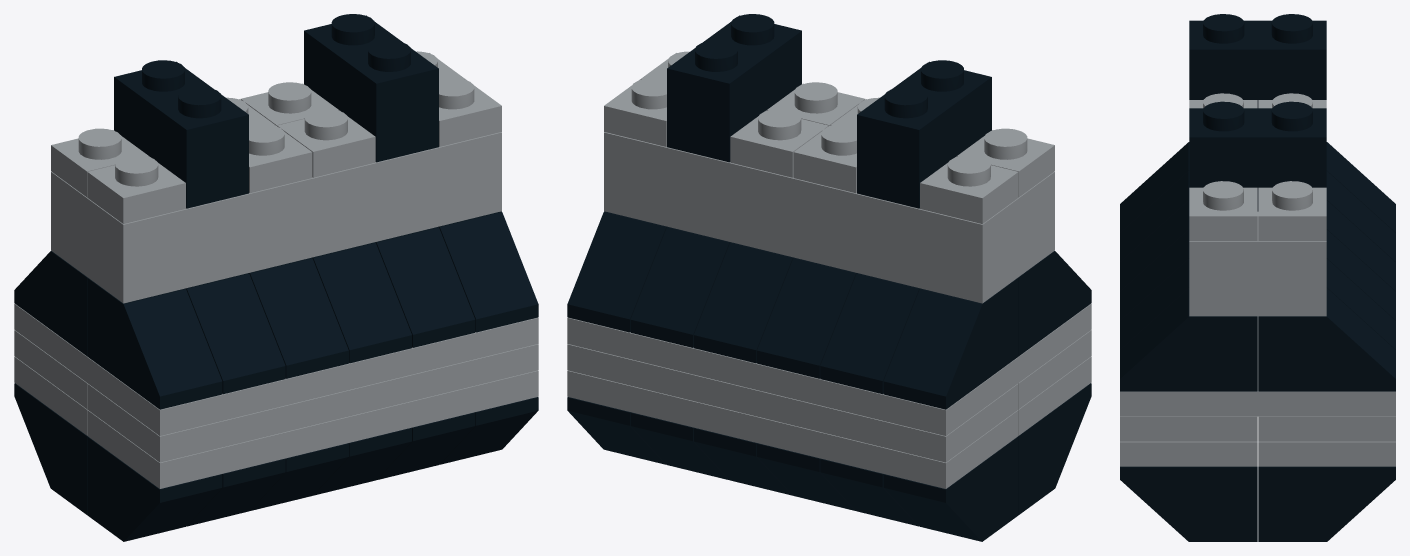
File: RebuildableBox.fbx
3 renders of one model, left to right at view 1: azimuth 30°, elevation 25°; view 2: azimuth 150°, elevation 25°; view 3: azimuth 270°, elevation 25°, orthographic. The views are drawn at different scales.
Parts seen in each view (by area): view 1: BoxBrick40, BoxBrick5, BoxBrick3, BoxBrick1, BoxBrick12, BoxBrick33, BoxBrick2, BoxBrick6, BoxBrick16, BoxBrick4, BoxBrick14, BoxBrick7 (+16 smaller); view 2: BoxBrick40, BoxBrick5, BoxBrick3, BoxBrick1, BoxBrick19, BoxBrick26, BoxBrick37, BoxBrick39, BoxBrick21, BoxBrick35, BoxBrick23, BoxBrick30 (+16 smaller); view 3: BoxBrick3, BoxBrick1, BoxBrick40, BoxBrick21, BoxBrick16, BoxBrick22, BoxBrick38, BoxBrick5, BoxBrick17, BoxBrick18, BoxBrick19, BoxBrick12 (+14 smaller).
Part boxes in pixels (x1,y1,x2,y2): BoxBrick40: (51,132,501,303); BoxBrick5: (14,303,538,435); BoxBrick3: (304,14,438,162); BoxBrick1: (114,60,248,208); BoxBrick12: (87,344,538,462); BoxBrick33: (87,370,538,488); BoxBrick2: (87,278,222,409); BoxBrick6: (87,436,222,541); BoxBrick16: (438,211,538,332); BoxBrick4: (185,273,285,394); BoxBrick14: (375,227,475,347); BoxBrick7: (249,257,348,378); BoxBrick40: (604,132,1054,303); BoxBrick5: (567,303,1091,435); BoxBrick3: (667,14,801,162); BoxBrick1: (857,60,991,208); BoxBrick19: (567,344,1018,462); BoxBrick26: (567,370,1018,488); BoxBrick37: (883,278,1018,409); BoxBrick39: (883,436,1018,541); BoxBrick21: (567,211,667,332); BoxBrick35: (820,273,920,394); BoxBrick23: (630,227,730,347); BoxBrick30: (757,257,856,378); BoxBrick3: (1189,101,1326,211); BoxBrick1: (1189,14,1326,107); BoxBrick40: (1189,212,1326,316); BoxBrick21: (1258,288,1395,391); BoxBrick16: (1120,288,1257,391); BoxBrick22: (1258,466,1395,541); BoxBrick38: (1120,466,1257,541); BoxBrick5: (1120,316,1395,416); BoxBrick17: (1189,181,1257,240); BoxBrick18: (1258,181,1326,240); BoxBrick19: (1258,416,1395,441); BoxBrick12: (1120,416,1257,441).
Bounding box in the file's own units: 168 × 174 × 112.
